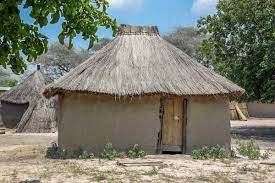Mud House: (42, 19, 246, 162)
